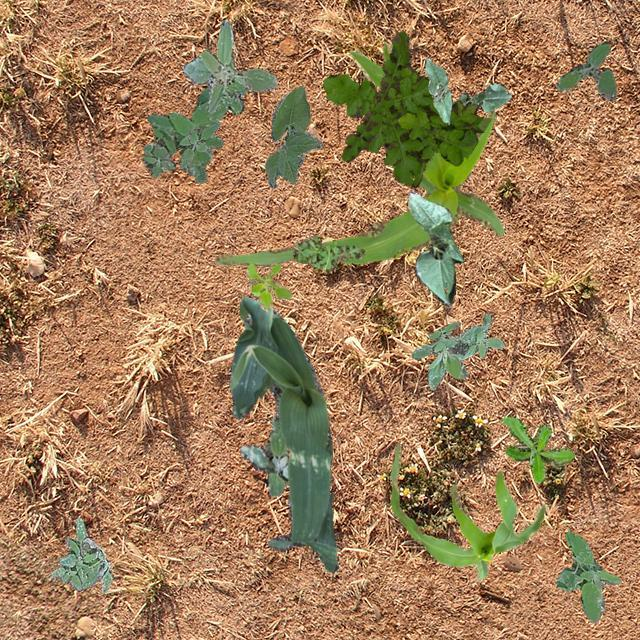crop: (212, 41, 502, 266), (228, 296, 338, 572), (390, 442, 544, 580), (407, 190, 462, 306), (264, 85, 322, 186), (424, 56, 450, 124), (456, 82, 510, 111)
weed: (322, 30, 490, 186), (140, 80, 248, 182), (182, 18, 276, 112), (410, 312, 502, 388), (556, 530, 620, 622), (502, 413, 574, 482), (50, 516, 112, 592), (240, 414, 288, 494), (556, 42, 616, 100), (292, 234, 364, 268), (244, 262, 290, 310), (178, 120, 218, 168)
